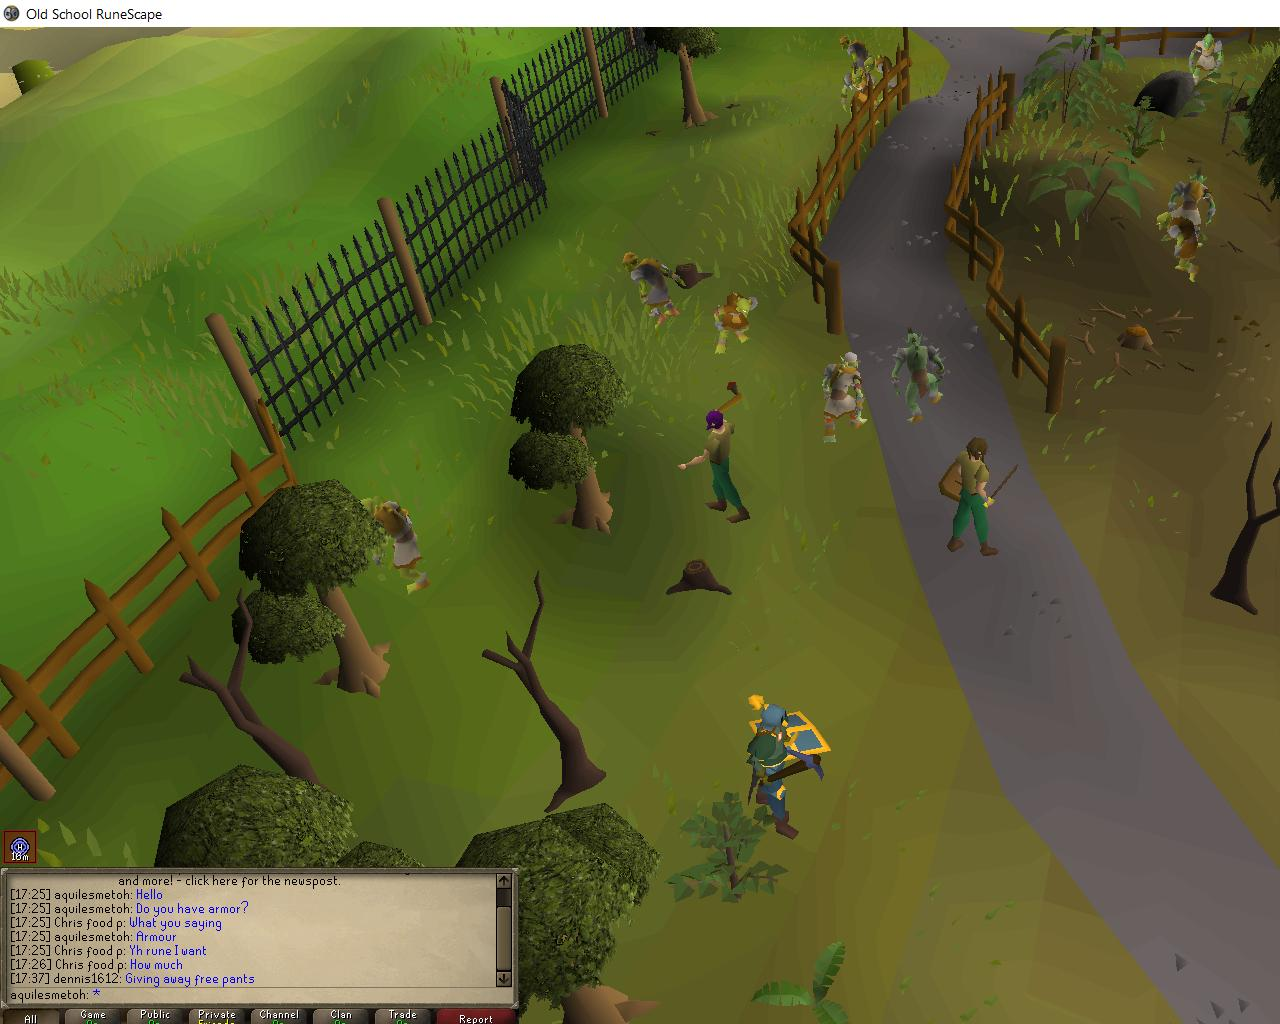Goblin: (348, 497, 438, 597), (621, 251, 692, 330), (890, 328, 948, 425), (820, 347, 869, 446), (1168, 167, 1215, 250), (1156, 211, 1206, 283), (713, 288, 762, 355), (840, 65, 882, 129), (1188, 32, 1226, 87), (865, 56, 900, 103), (839, 36, 872, 82)
